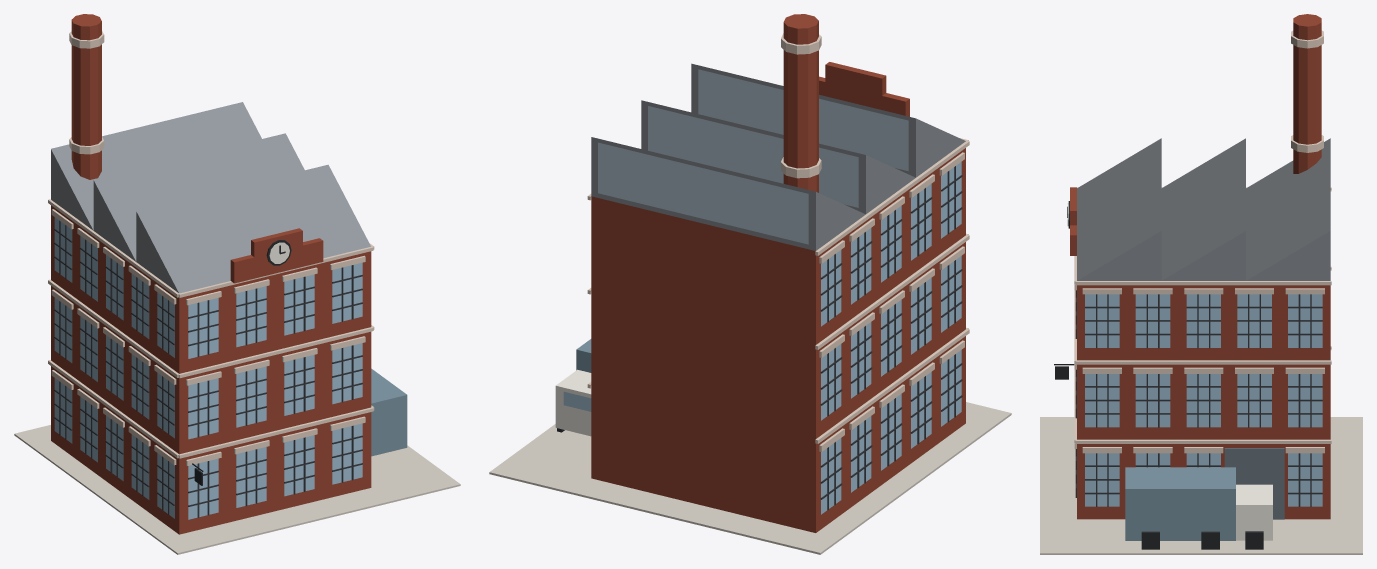
The model's file is Sanayi_fabrika_matbaa_Hafif.fbx.
3 renders of one model, left to right at view 1: azimuth 30°, elevation 25°; view 2: azimuth 150°, elevation 25°; view 3: azimuth 270°, elevation 25°, orthographic. The views are drawn at different scales.
Visible parts, largest first — view 1: Sanayi_fabrika_matbaa_Hafif; view 2: Sanayi_fabrika_matbaa_Hafif; view 3: Sanayi_fabrika_matbaa_Hafif.
Boxes of the visible parts, <box> form: Sanayi_fabrika_matbaa_Hafif: <box>14,14,460,554</box>; Sanayi_fabrika_matbaa_Hafif: <box>489,14,1011,554</box>; Sanayi_fabrika_matbaa_Hafif: <box>1040,14,1362,554</box>.
Bounding box in the file's own units: 14 × 20.08 × 14.
